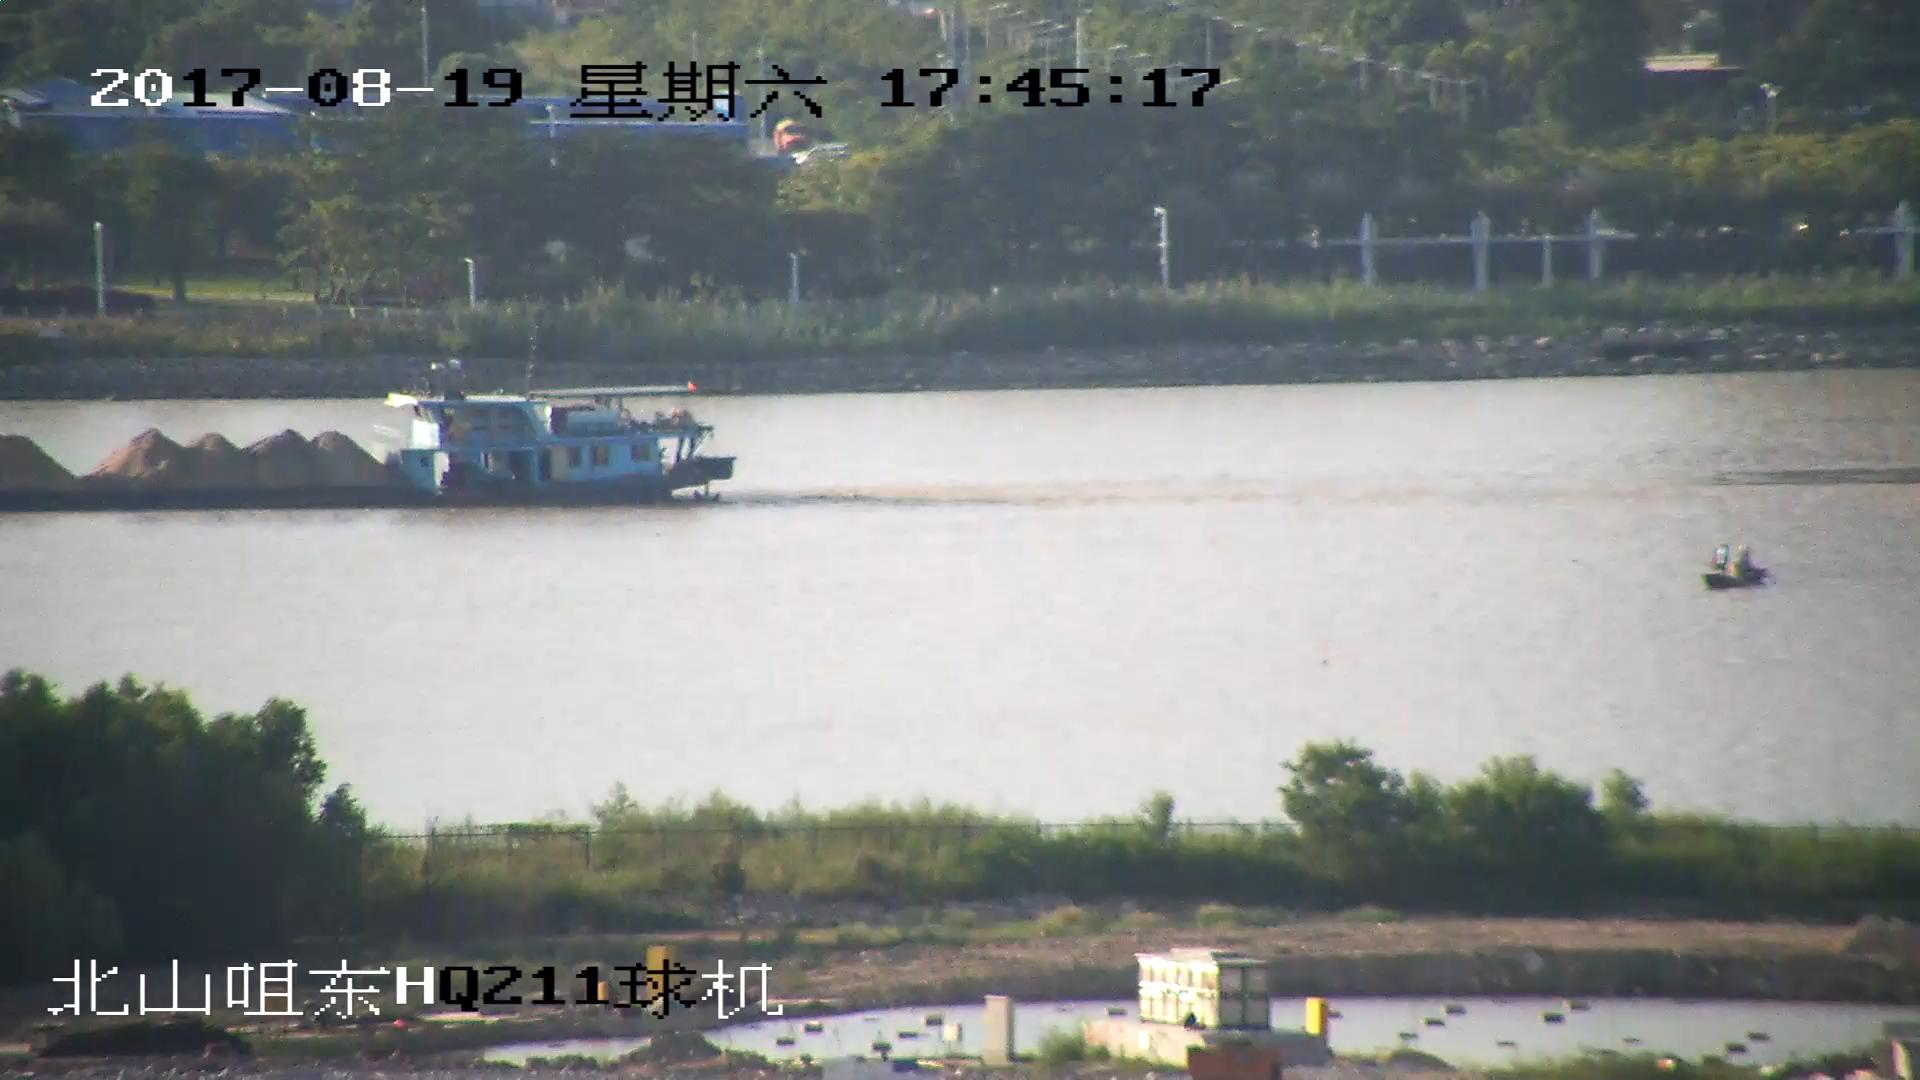fishing boat: (1708, 544, 1770, 590)
ore carrier: (1, 365, 738, 510)
